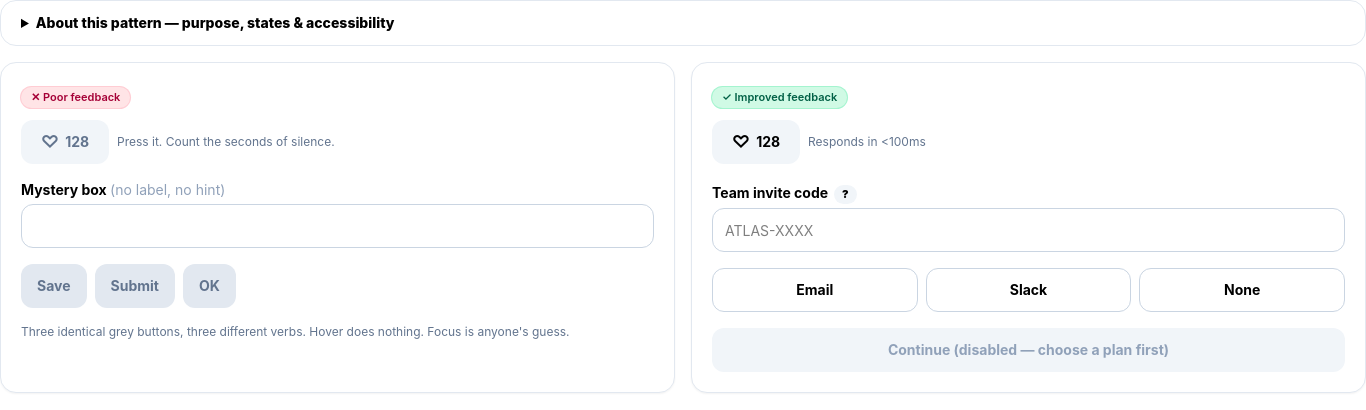
Scenario: cognitive load and feedback › improved like-button responds; poor one stays silent
Click the button named "like this proposal". click: {"x": 756, "y": 142}
box: [712,120,800,164]
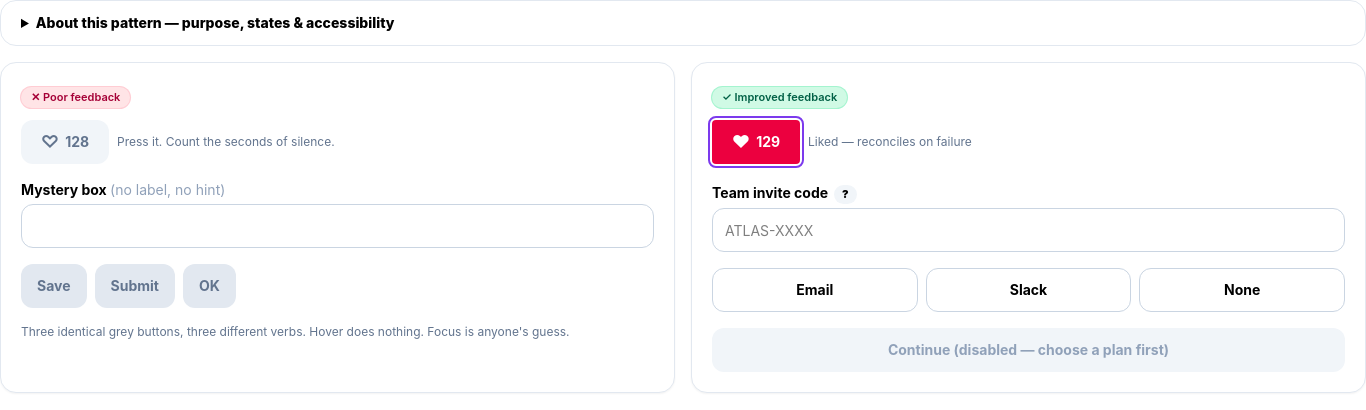
Expected: the button named "like (unresponsive demo)" is shown, [21,120,109,164]
Result: the button "♥ 129" is shown at [712,120,800,164]
